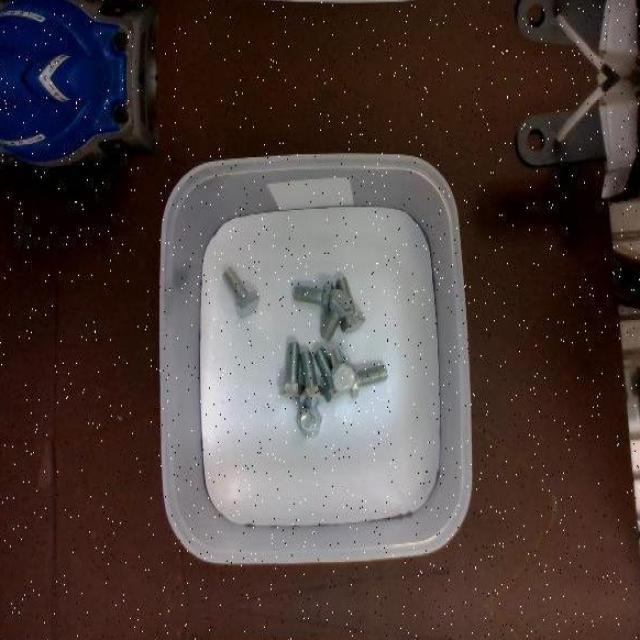screw: (223, 265, 261, 316), (321, 288, 353, 341), (279, 341, 306, 395), (295, 280, 334, 310), (331, 349, 356, 391), (296, 406, 322, 436)
